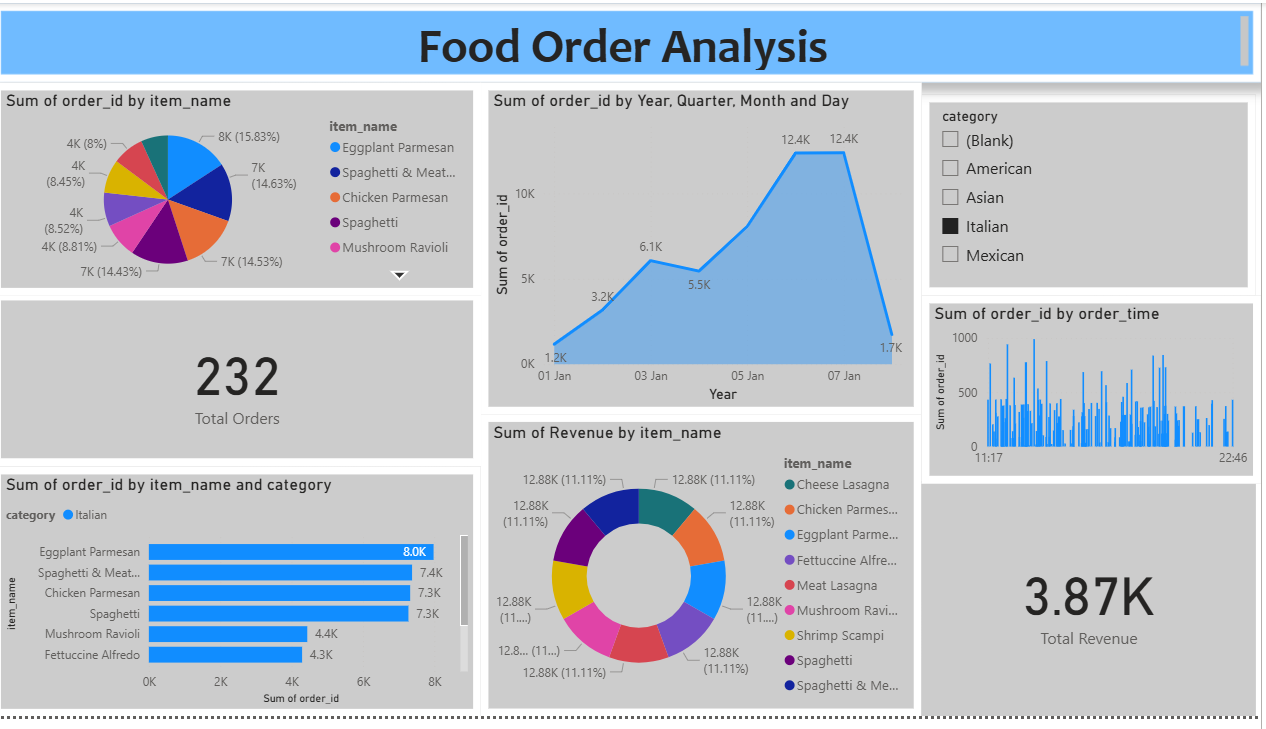

What the dashboard file says about the page in this screenshot:
{"tool":"powerbi","page":{"name":"Page 1","canvas":[1280,720],"ordinal":0},"visuals":[{"type":"slicer","fields":{"Values":["menu_items.category"]},"box":[937.5,92.5,337.5,202.5],"z":0},{"type":"textbox","box":[0,0,1280,80],"z":1000},{"type":"barChart","fields":{"Category":["menu_items.item_name"],"Y":["Sum(order_details.order_id)"],"Series":["menu_items.category"]},"box":[0,467.5,492.5,252.5],"z":2000},{"type":"donutChart","fields":{"Category":["menu_items.item_name"],"Y":["Sum(menu_items.Revenue)"]},"box":[492.5,415,445,305],"z":3000},{"type":"lineChart","fields":{"Y":["Sum(order_details.order_id)"],"Category":["order_details.order_date.Variation.Date Hierarchy.Year","order_details.order_date.Variation.Date Hierarchy.Quarter","order_details.order_date.Variation.Date Hierarchy.Month","order_details.order_date.Variation.Date Hierarchy.Day"]},"box":[492.5,80,445,335],"z":4000},{"type":"card","fields":{"Values":["menu_items.Total Orders"]},"box":[0,292.5,492.5,175],"z":5000},{"type":"card","fields":{"Values":["menu_items.Total Revenue"]},"box":[937.5,482.5,337.5,237.5],"z":6000},{"type":"columnChart","fields":{"Y":["Sum(order_details.order_id)"],"Category":["order_details.order_time"]},"box":[937.5,295,342.5,190],"z":7000},{"type":"pieChart","fields":{"Y":["Sum(order_details.order_id)"],"Category":["menu_items.item_name"]},"box":[0,80,492.5,215],"z":7001}]}

Visuals, with their boxes in screenshot pixels (x1, y1, x2, y2), scaled from the page's 1280x720 canvas onto the 1266x729 screenshot:
slicer - menu_items.category: l=927, t=94, r=1261, b=299
textbox: l=0, t=0, r=1265, b=81
barChart - menu_items.item_name x Sum(order_details.order_id): l=0, t=473, r=487, b=728
donutChart - menu_items.item_name x Sum(menu_items.Revenue): l=487, t=420, r=927, b=728
lineChart - Sum(order_details.order_id) x order_details.order_date.Variation.Date Hierarchy.Year: l=487, t=81, r=927, b=420
card - menu_items.Total Orders: l=0, t=296, r=487, b=473
card - menu_items.Total Revenue: l=927, t=489, r=1261, b=728
columnChart - Sum(order_details.order_id) x order_details.order_time: l=927, t=299, r=1265, b=491
pieChart - Sum(order_details.order_id) x menu_items.item_name: l=0, t=81, r=487, b=299
